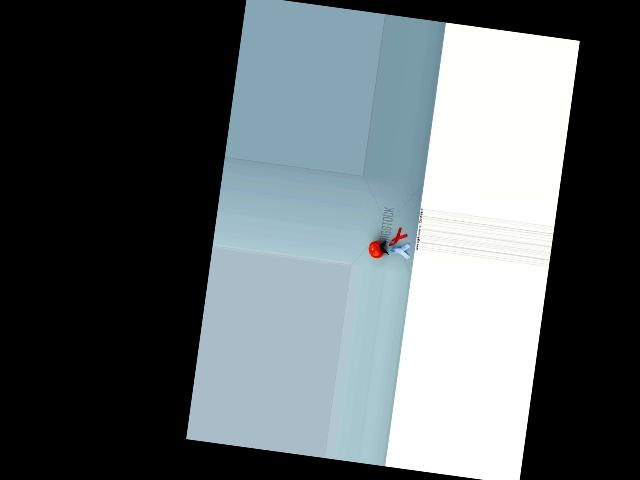tomato: (367, 239, 386, 258)
